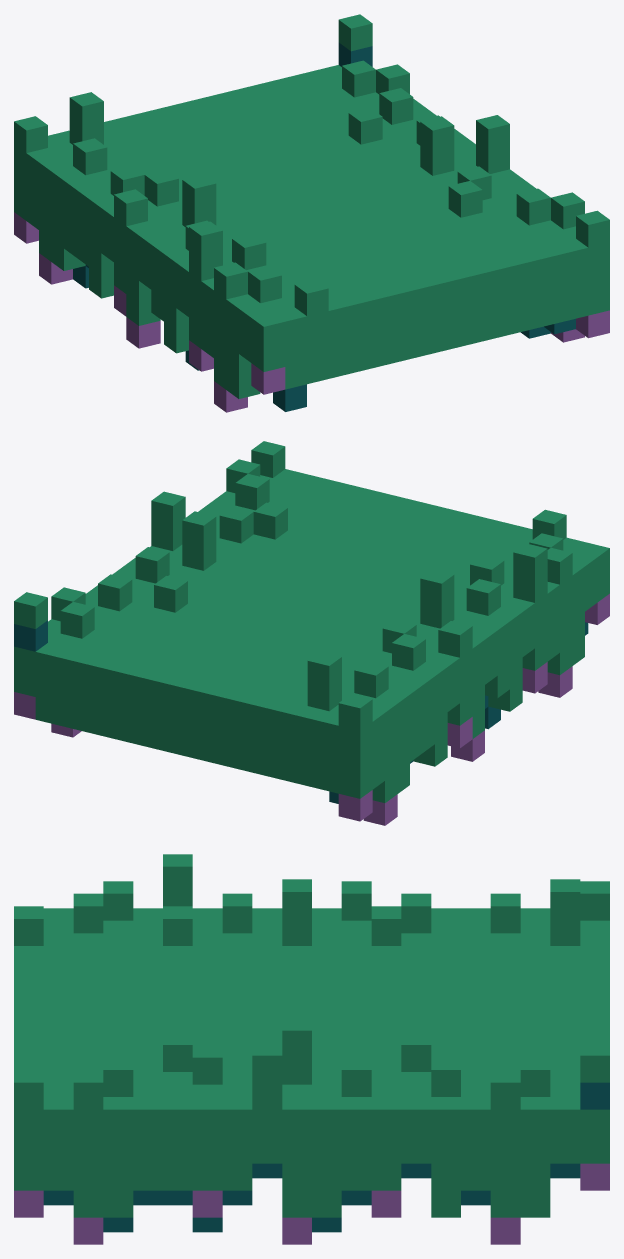
The model's file is sueloPlataform-3.obj.
3 views of the same model, one above another, from view 1: azimuth 30°, elevation 25°; view 2: azimuth 150°, elevation 25°; view 3: azimuth 270°, elevation 25° (orthographic). The views are drawn at different scales.
Size of the model in its own units: 1.6 by 0.7 by 2.
1 material, 1 textured.
